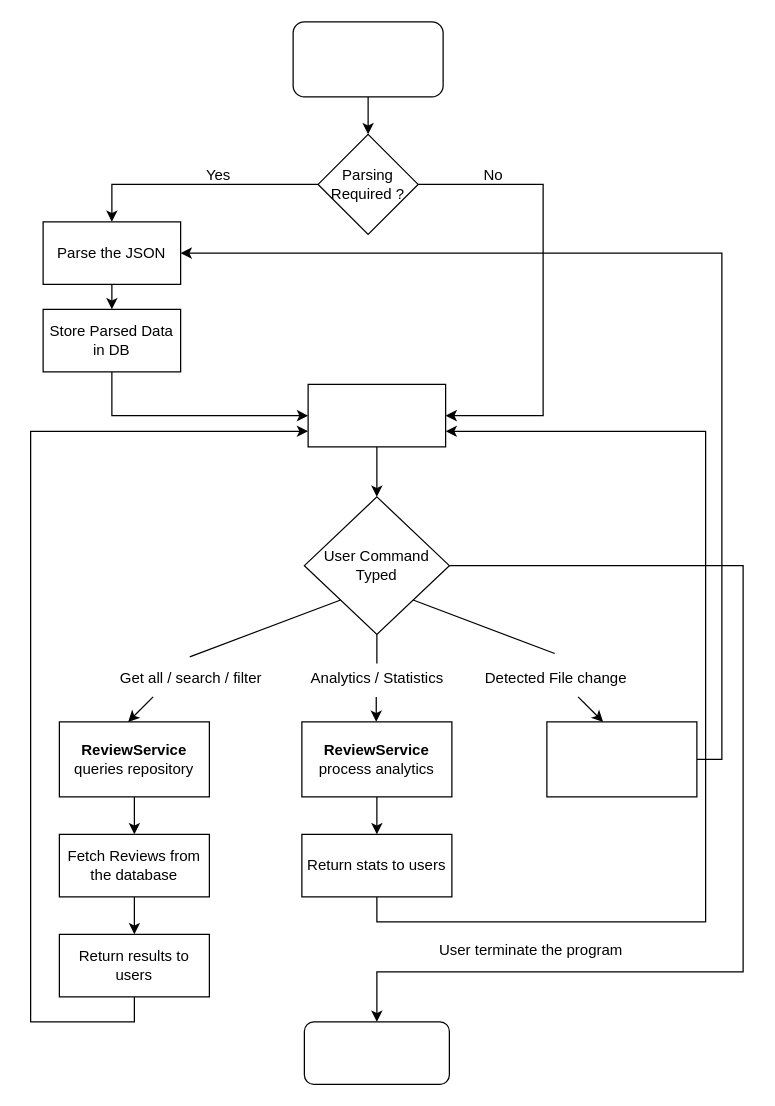
Some shapes in this 775 by 1106 pixel diagram are drawn without their labels. Here are the shapes that lost their labels. From the top down, the box of each, then its label:
(292, 21, 443, 97): START: User Launch the Program
(307, 383, 446, 447): Wait for User Command
(546, 721, 697, 797): Parse only new change data
(303, 1021, 449, 1084): END: Terminate the program
